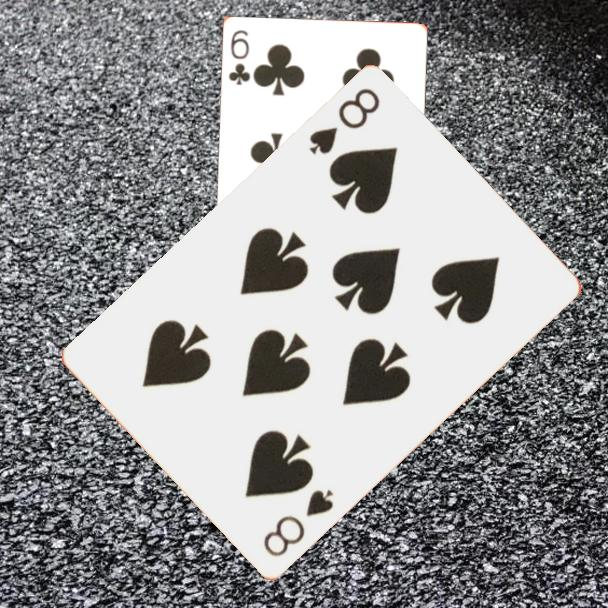c06: (225, 27, 253, 88)
s08: (259, 486, 337, 561), (305, 85, 383, 159)
